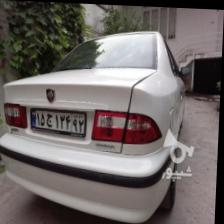plate: (30, 106, 88, 135)
